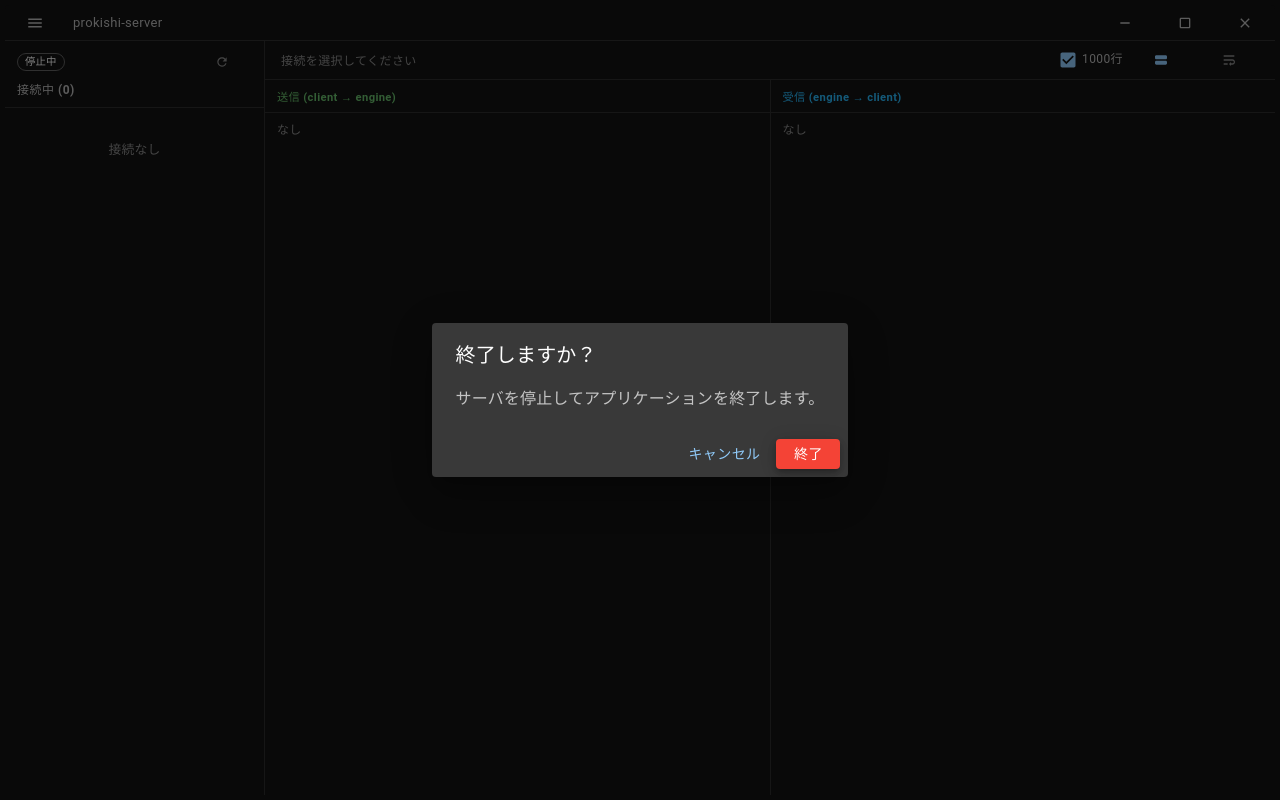
Test case: App close confirmation flow › closes the dialog without quitting when キャンセル is clicked
Expected: the heading "終了しますか？" is shown, x1=456 y1=343 x2=597 y2=367
Click the button "キャンセル".
click(724, 454)  # box x1=680 y1=439 x2=768 y2=469
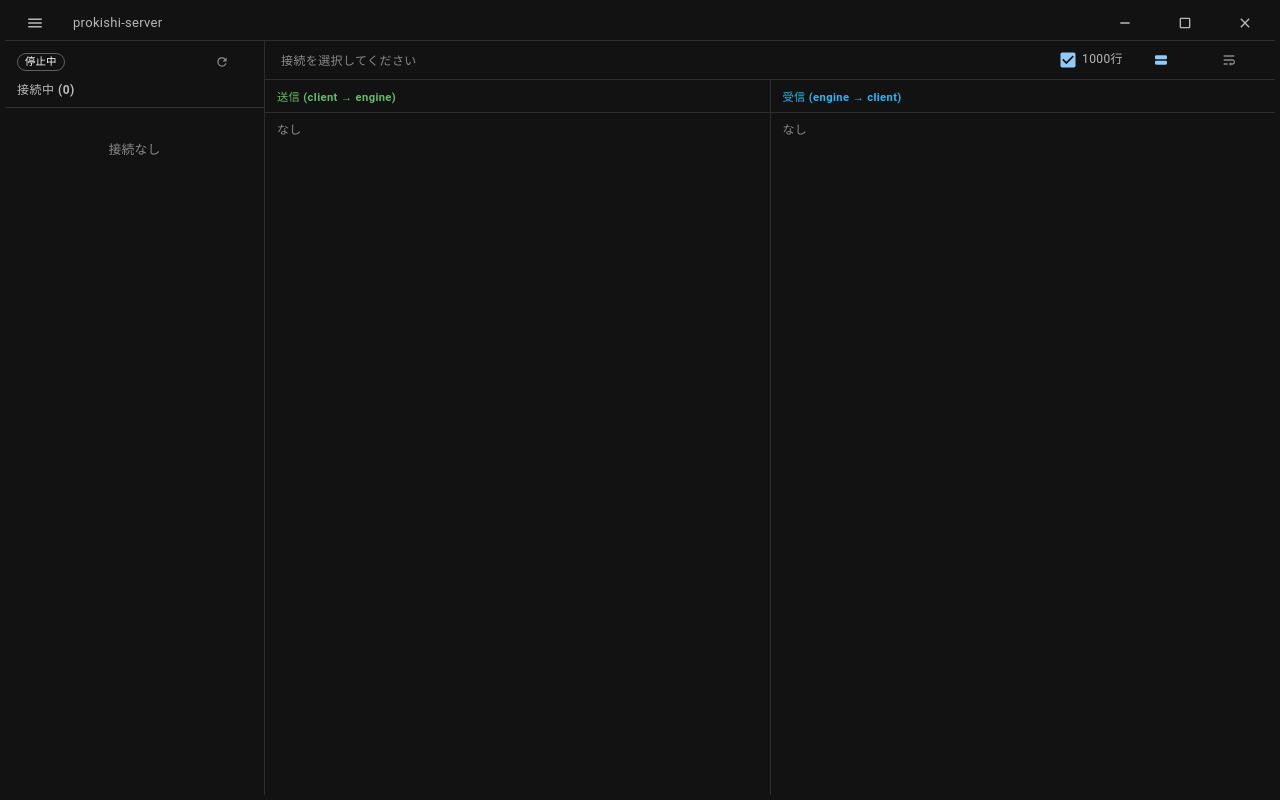
Result: the heading "終了しますか？" is gone
